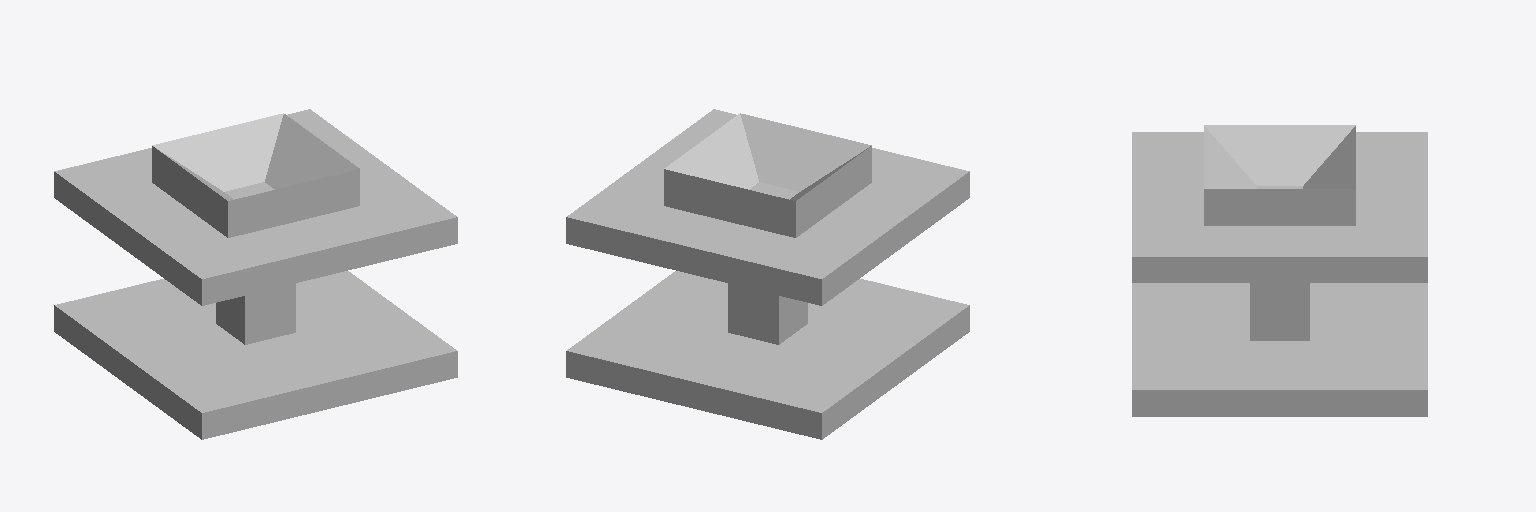
Rendered from grinder_static.obj.
3 views of the same model, side by side, from view 1: azimuth 30°, elevation 25°; view 2: azimuth 150°, elevation 25°; view 3: azimuth 270°, elevation 25° (orthographic).
Visible parts, largest first — view 1: polySurface1; view 2: polySurface1; view 3: polySurface1.
Boxes of the visible parts, <box> form: polySurface1: <box>54,109,457,439</box>; polySurface1: <box>566,109,969,439</box>; polySurface1: <box>1132,125,1427,416</box>.
Bounding box in the file's own units: 1 × 0.7384 × 1.